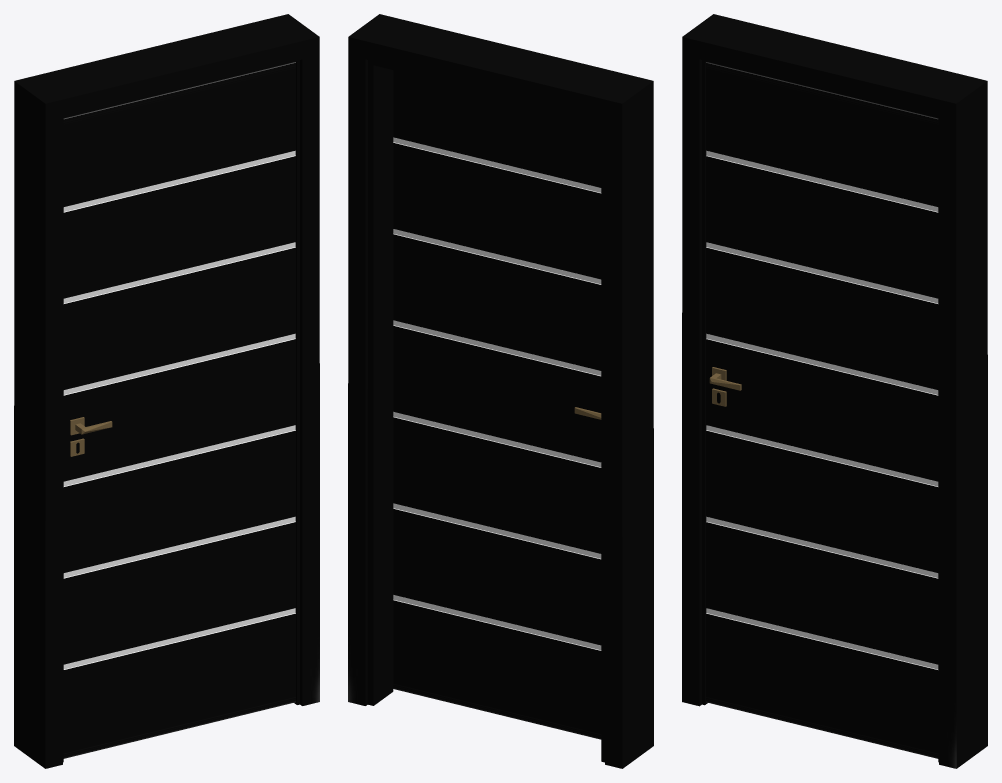
File: porta-prontav2.1a.fbx
The picture shows the model from 3 angles, left to right: view 1: azimuth 30°, elevation 25°; view 2: azimuth 150°, elevation 25°; view 3: azimuth 330°, elevation 25°; orthographic projection.
Parts seen in each view (by area): view 1: Porta_frizzata6DV, marco_pvc; view 2: Porta_frizzata6DV, marco_pvc; view 3: Porta_frizzata6DV, marco_pvc.
Part boxes in pixels (bbox=[...]): Porta_frizzata6DV: bbox=[63, 62, 295, 758]; marco_pvc: bbox=[14, 14, 319, 768]; Porta_frizzata6DV: bbox=[393, 70, 601, 739]; marco_pvc: bbox=[348, 14, 653, 768]; Porta_frizzata6DV: bbox=[706, 62, 938, 758]; marco_pvc: bbox=[682, 14, 987, 768].
Bounding box in the file's own units: 106 × 245 × 24.41.
